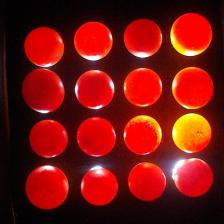fertile: (21, 68, 65, 113), (173, 66, 214, 110), (28, 119, 70, 158), (122, 18, 162, 58), (76, 117, 116, 157), (75, 69, 115, 109), (128, 162, 166, 202), (81, 167, 118, 206)
infertile: (24, 165, 69, 209), (169, 13, 212, 57), (23, 27, 65, 67), (172, 113, 212, 154), (74, 21, 113, 61), (174, 158, 214, 197), (123, 68, 163, 106), (124, 115, 162, 155)
